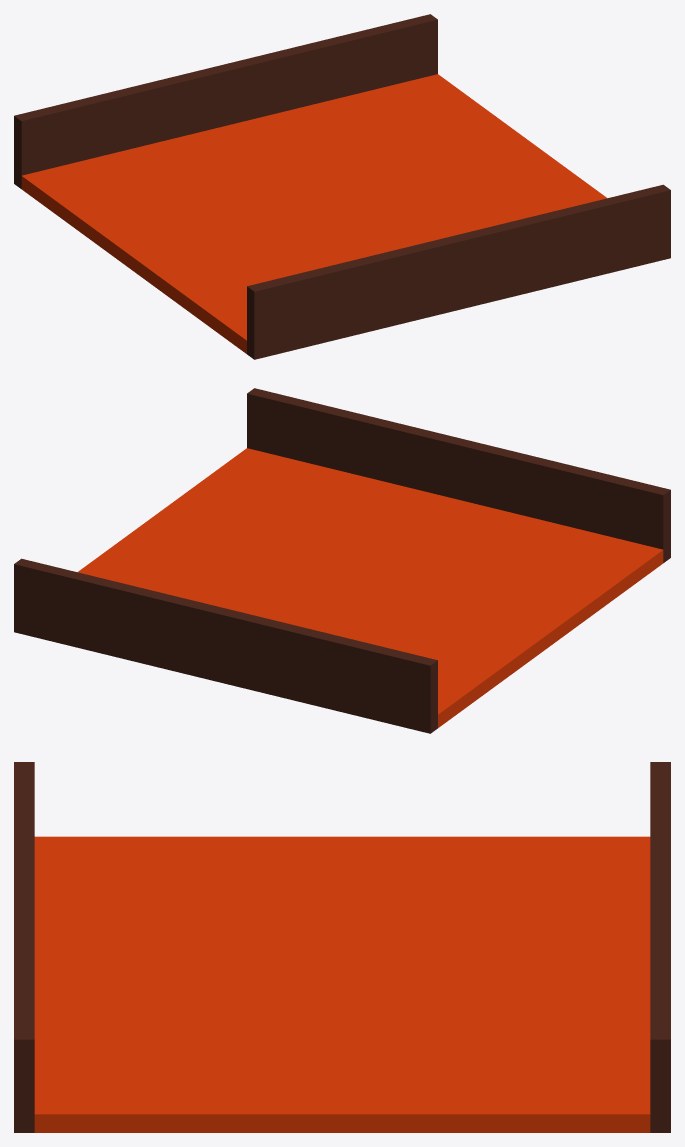
File: Blocker Bone Map 1-8.obj
3 views of the same model, one above another, from view 1: azimuth 30°, elevation 25°; view 2: azimuth 150°, elevation 25°; view 3: azimuth 270°, elevation 25° (orthographic). The views are drawn at different scales.
Bounding box in the file's own units: 3.2 × 0.5 × 3.2.
1 material, 1 textured.
